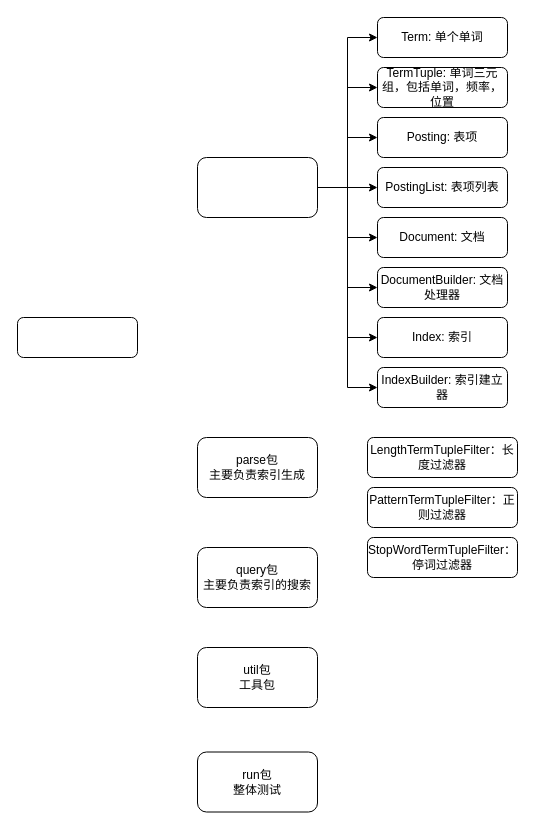
Image size: 535x830. Some labels were removed from this diagram. The shapes that lost their labels are listed below. From the top down, each one's centre as x and y in pixels, then its label:
At (x=257, y=187): "index包 主要负责文档的处理".
At (x=77, y=337): "SearchEngine".
